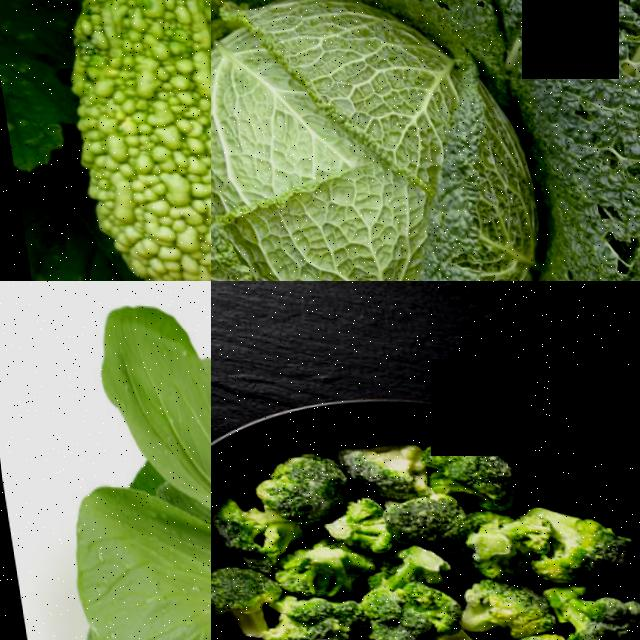-: (368, 487, 504, 554), (536, 508, 640, 583), (363, 572, 462, 640), (336, 426, 434, 490), (245, 449, 337, 515), (211, 484, 286, 561), (435, 428, 518, 494), (357, 577, 436, 640), (462, 570, 542, 628), (547, 587, 640, 636), (211, 566, 266, 636), (272, 587, 344, 640)
bitter gourd: (48, 0, 211, 281)
bok choy: (0, 311, 211, 640)
cabbage: (211, 0, 640, 281)
